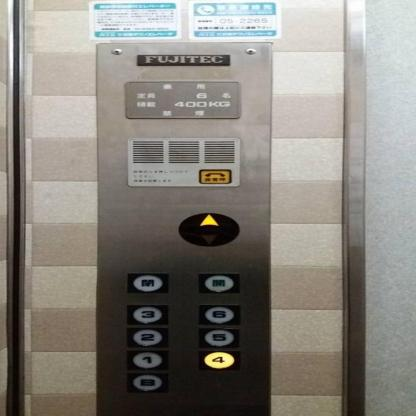1: (125, 348, 170, 370)
2: (125, 326, 170, 348)
3: (125, 303, 170, 326)
4: (196, 348, 241, 371)
5: (196, 326, 241, 348)
6: (196, 303, 241, 325)
B: (125, 371, 170, 393)
call: (197, 168, 232, 183)
led: (176, 211, 241, 246)
text: (124, 272, 170, 294), (196, 272, 240, 294)
